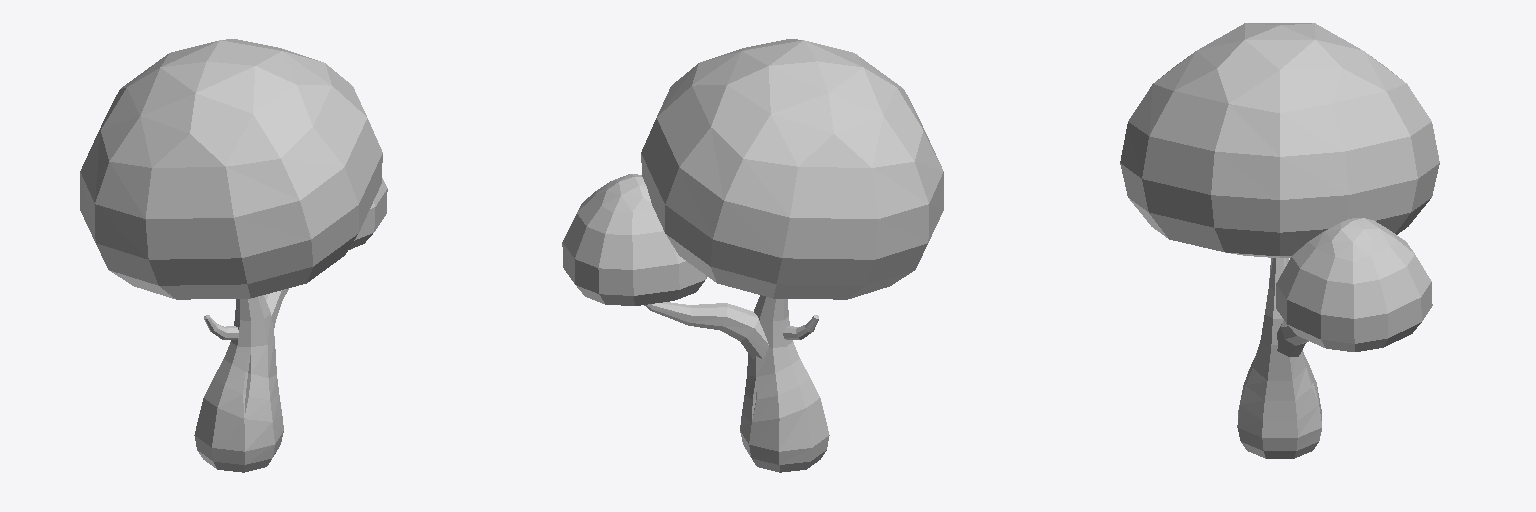
Rendered from Tree_1_B_Color1.obj.
The picture shows the model from 3 angles: view 1: azimuth 30°, elevation 25°; view 2: azimuth 150°, elevation 25°; view 3: azimuth 270°, elevation 25°; orthographic projection.
Visible parts, largest first — view 1: Tree_1_B_Color1; view 2: Tree_1_B_Color1; view 3: Tree_1_B_Color1.
Part boxes in pixels (bbox=[...]): Tree_1_B_Color1: bbox=[80, 39, 387, 472]; Tree_1_B_Color1: bbox=[562, 39, 943, 472]; Tree_1_B_Color1: bbox=[1120, 23, 1439, 458].
Size of the model in its own units: 4.01 by 4.93 by 3.45.